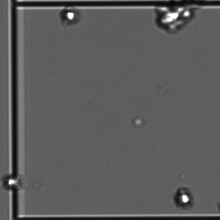Living Cell: (159, 3, 187, 31), (57, 5, 85, 29), (170, 184, 194, 209), (2, 169, 24, 192)
